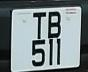1: (45, 38, 56, 68), (54, 37, 63, 68)
5: (30, 38, 47, 71)
B: (46, 10, 63, 39)
T: (29, 11, 49, 41)
